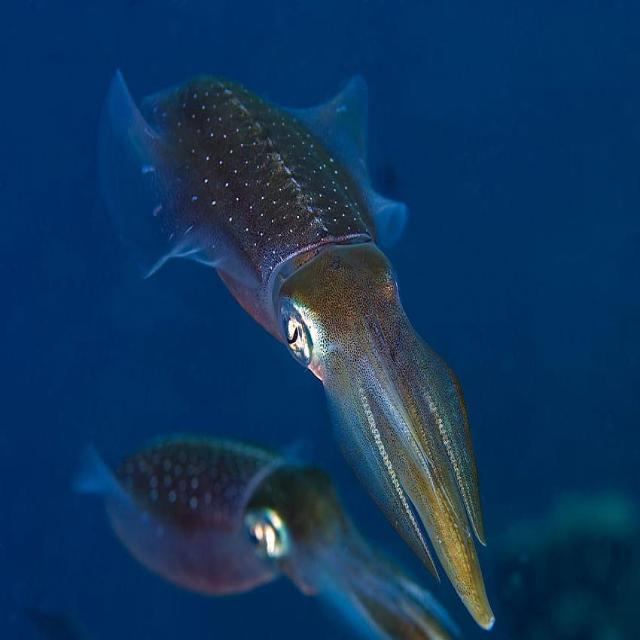SQUID: (88, 56, 519, 640), (69, 393, 456, 640)
